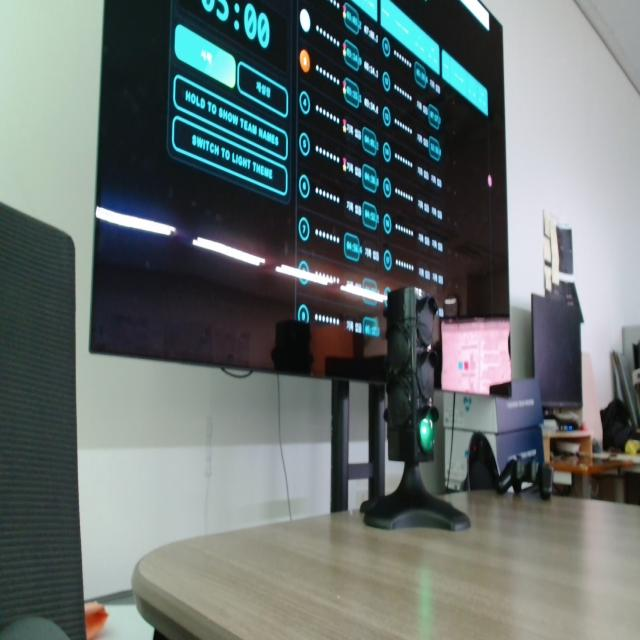green_light: (420, 417, 434, 453)
